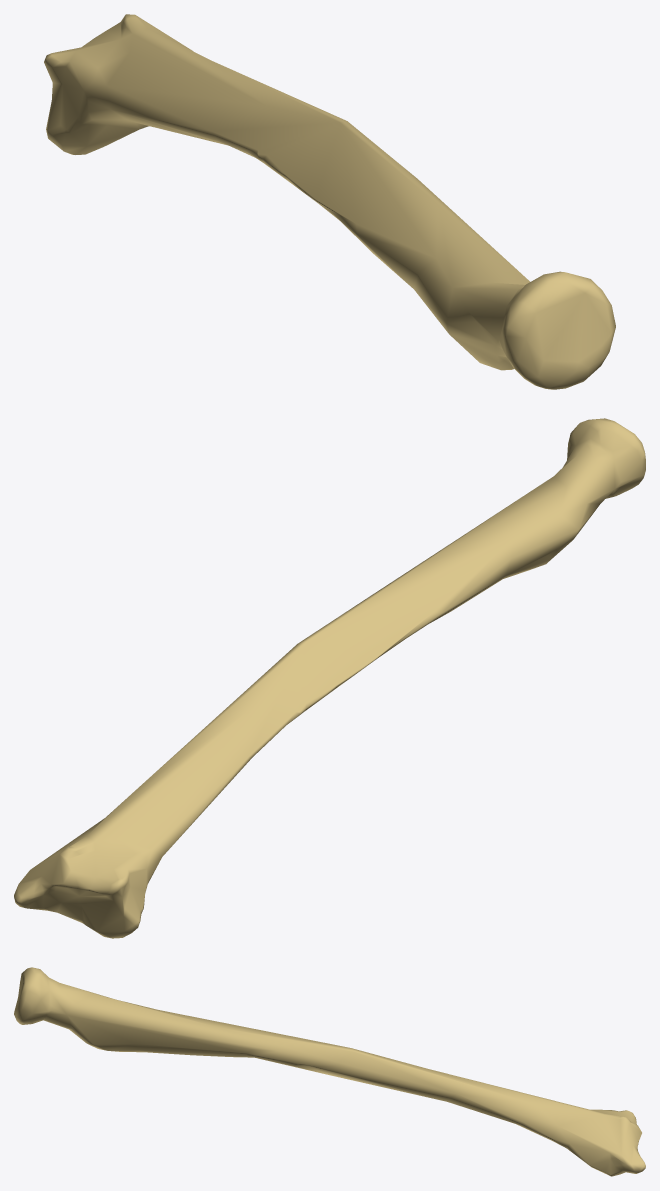
3 views of the same model, one above another, from view 1: azimuth 30°, elevation 25°; view 2: azimuth 150°, elevation 25°; view 3: azimuth 270°, elevation 25° (orthographic). The views are drawn at different scales.
Parts seen in each view (by area): view 1: 左侧桡骨; view 2: 左侧桡骨; view 3: 左侧桡骨.
Boxes of the visible parts, box(x1,y1,x2,y2) form: 左侧桡骨: box(44, 14, 615, 389); 左侧桡骨: box(14, 418, 645, 938); 左侧桡骨: box(14, 967, 645, 1176).
Size of the model in its own units: 0.091 by 0.1012 by 0.3492.
